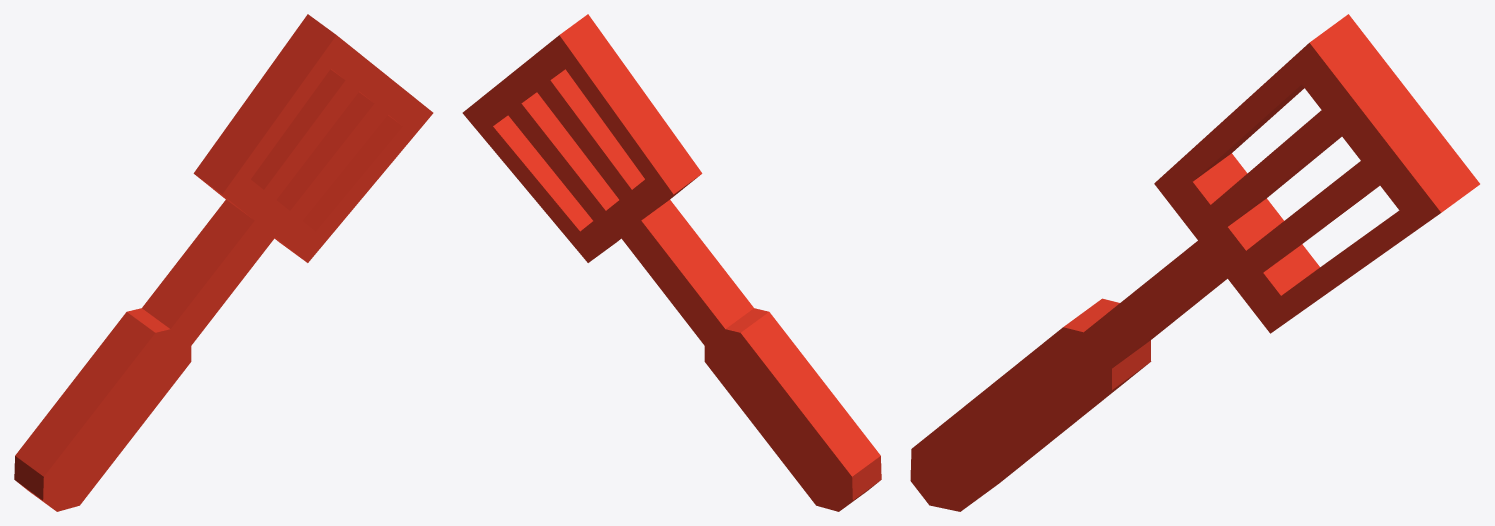
File: Icon_Spatula.fbx
3 renders of one model, left to right at view 1: azimuth 30°, elevation 25°; view 2: azimuth 150°, elevation 25°; view 3: azimuth 330°, elevation 25°, orthographic. The views are drawn at different scales.
Visible parts, largest first — view 1: Icon_Spatula; view 2: Icon_Spatula; view 3: Icon_Spatula.
Boxes of the visible parts, x1=… form: Icon_Spatula: x1=14, y1=14, x2=433, y2=511; Icon_Spatula: x1=462, y1=14, x2=881, y2=511; Icon_Spatula: x1=910, y1=14, x2=1479, y2=511.
Size of the model in its own units: 77.31 by 77.31 by 9.87.
